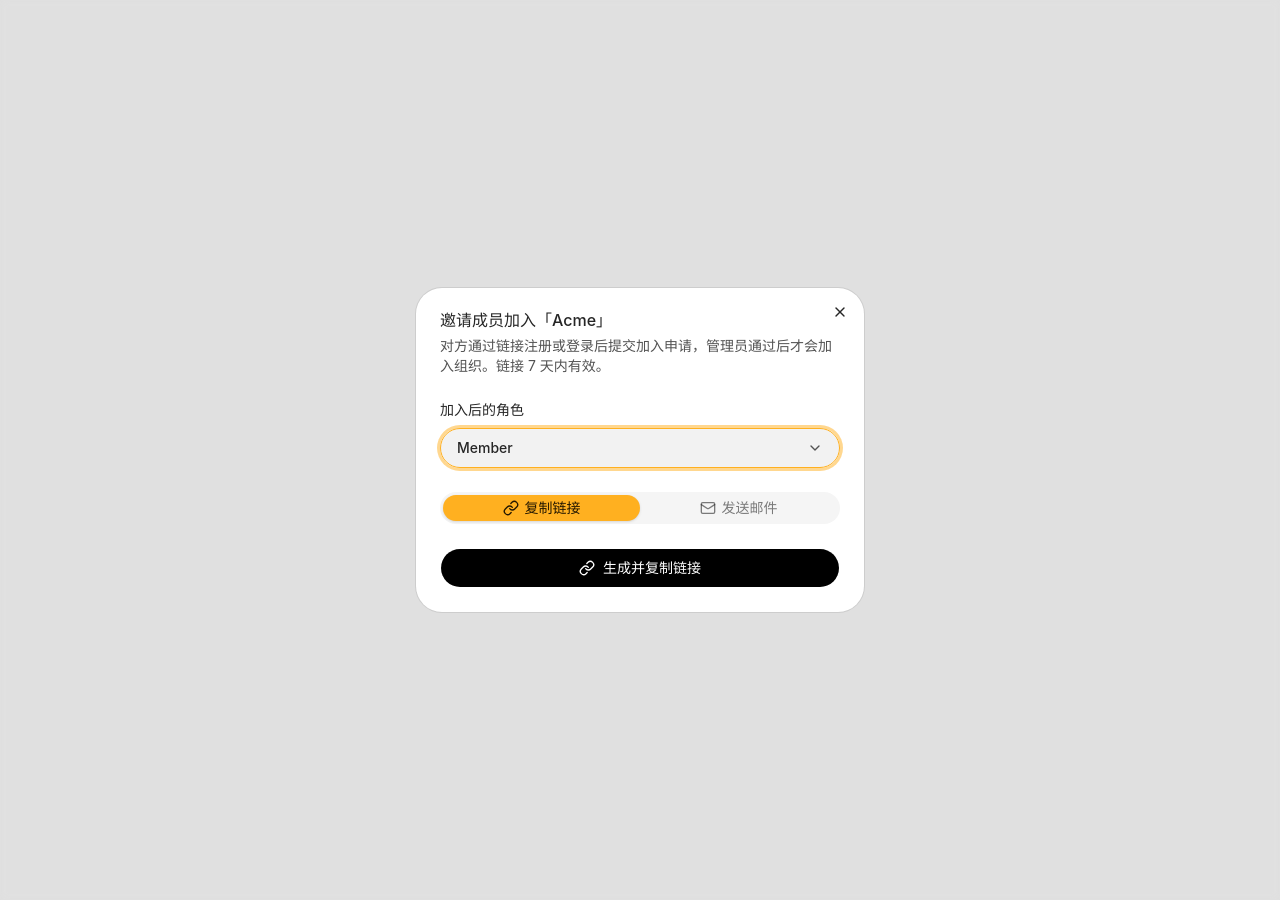
Test case: invite dialog › makes a link for the chosen role, copies it and keeps it on screen
What coordinates should you click on to do the following:
click the button "生成并复制链接"
I would click on:
 (640, 568)
Its box is [440,548,840,588].
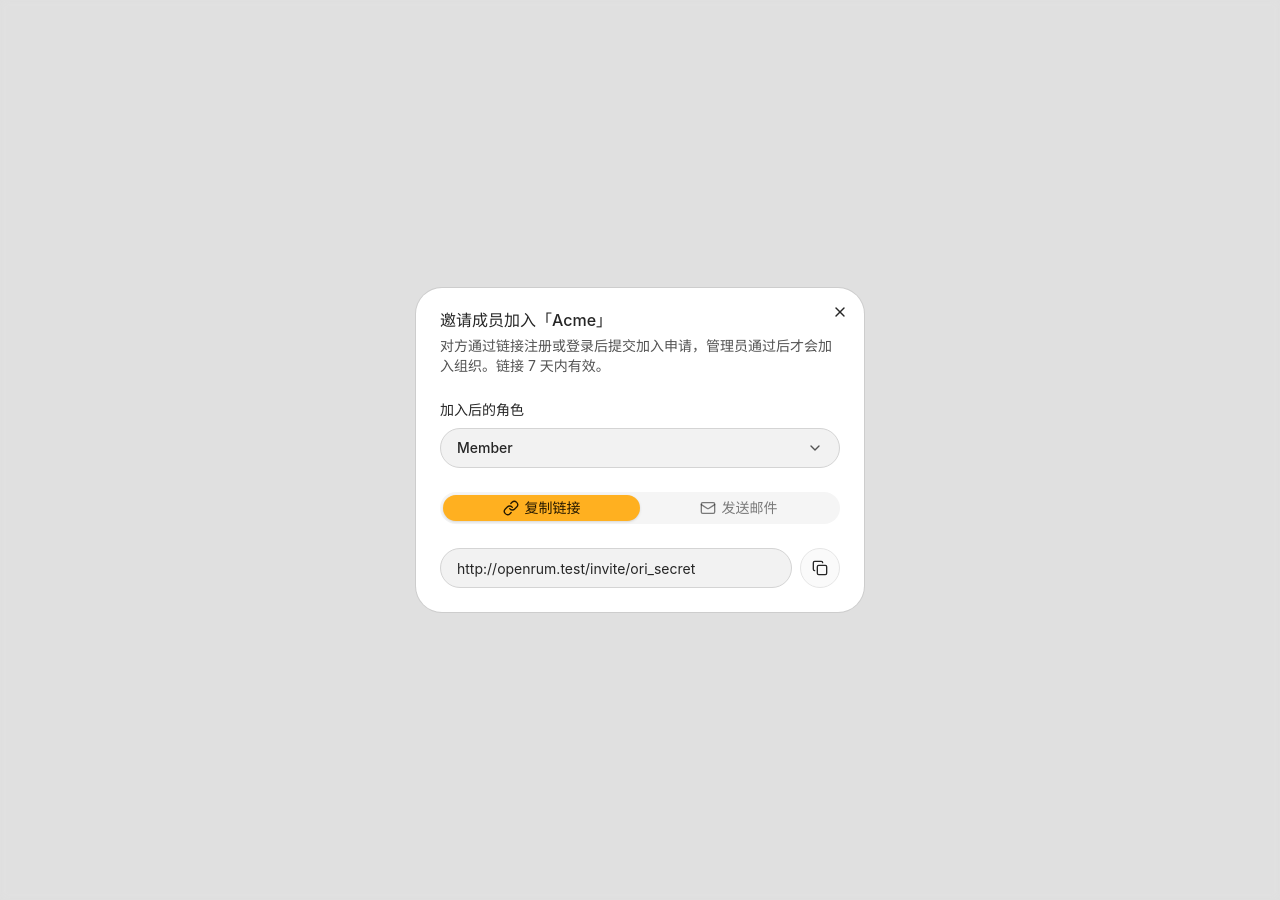
Result: the field named "邀请链接" holds "http://openrum.test/invite/ori_secret" at [440,548,792,588]
